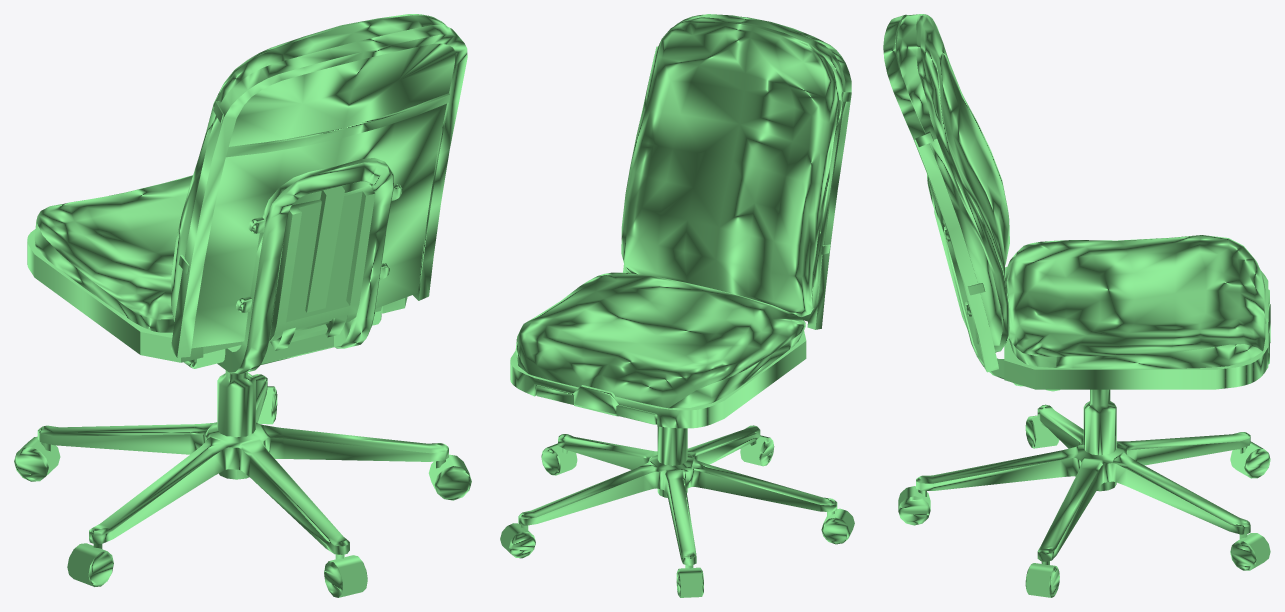
Rendered from uee_lawless_prop_chair_base_03.glb.
3 renders of one model, left to right at view 1: azimuth 30°, elevation 25°; view 2: azimuth 150°, elevation 25°; view 3: azimuth 270°, elevation 25°, orthographic. The views are drawn at different scales.
Bounding box in the file's own units: 0.7681 × 1.04 × 0.7599.
